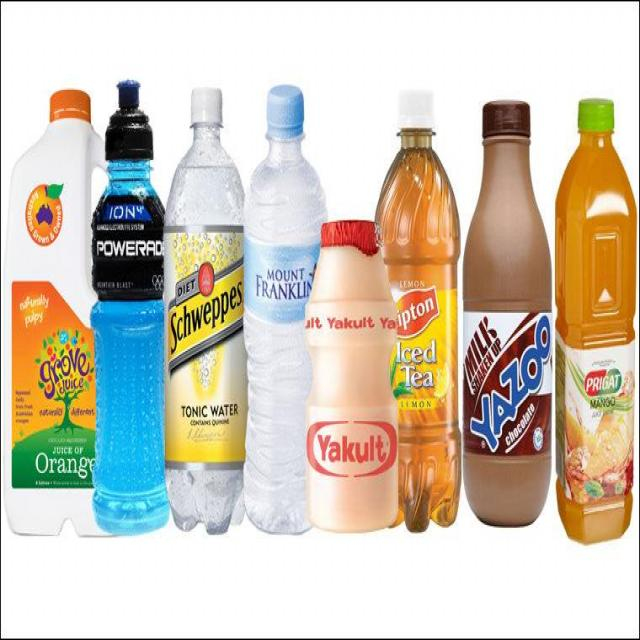plastic_bottle: (4, 85, 113, 551), (87, 74, 195, 541), (459, 73, 561, 556), (371, 100, 471, 556), (550, 64, 640, 546), (160, 68, 251, 540), (244, 69, 328, 552), (304, 203, 408, 557)
